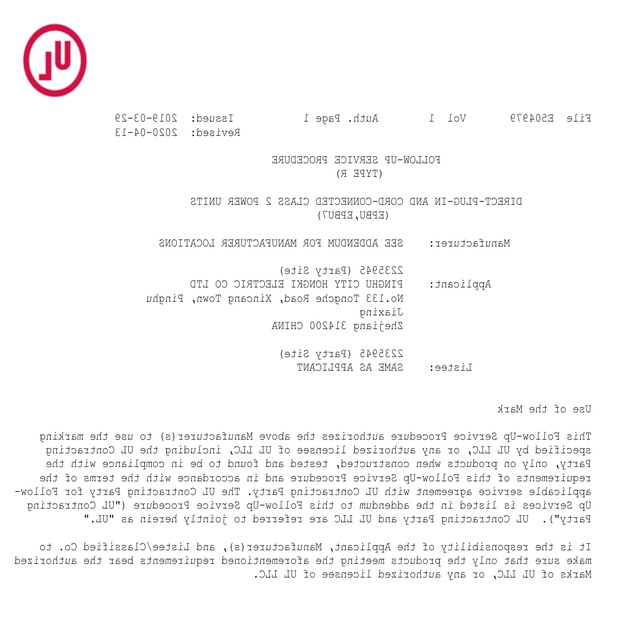ul: (22, 23, 87, 98)
